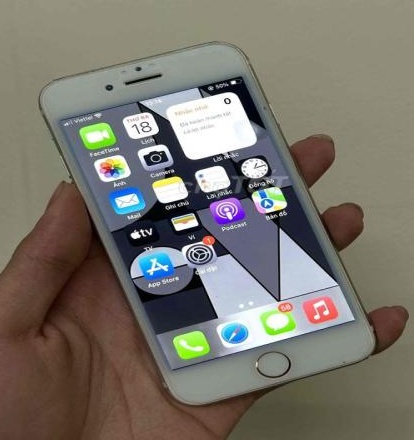scratch: (147, 42, 232, 57), (256, 87, 277, 116), (47, 70, 105, 78), (339, 355, 351, 366)
